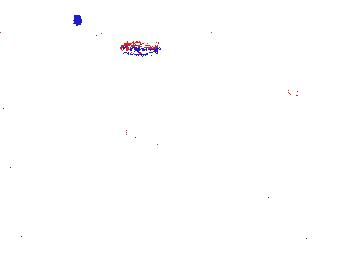X-ray fish: (117, 120, 162, 147)
red belly glassfish: (118, 40, 161, 57), (283, 87, 301, 100)
